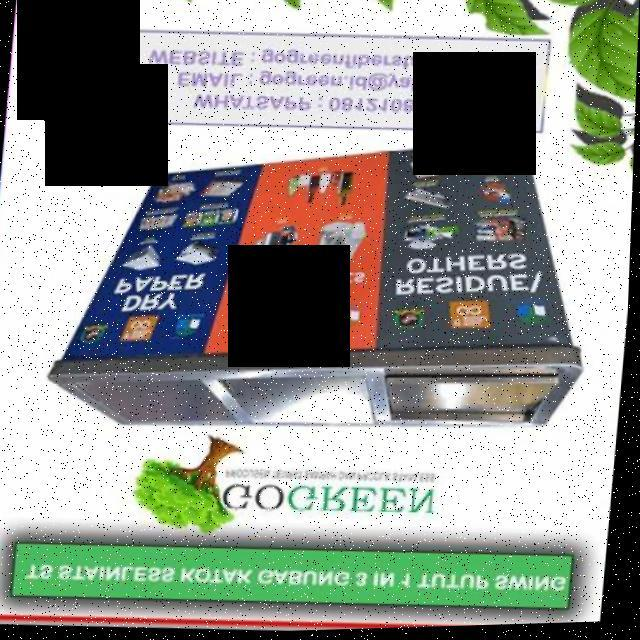bin: (28, 114, 624, 471)
